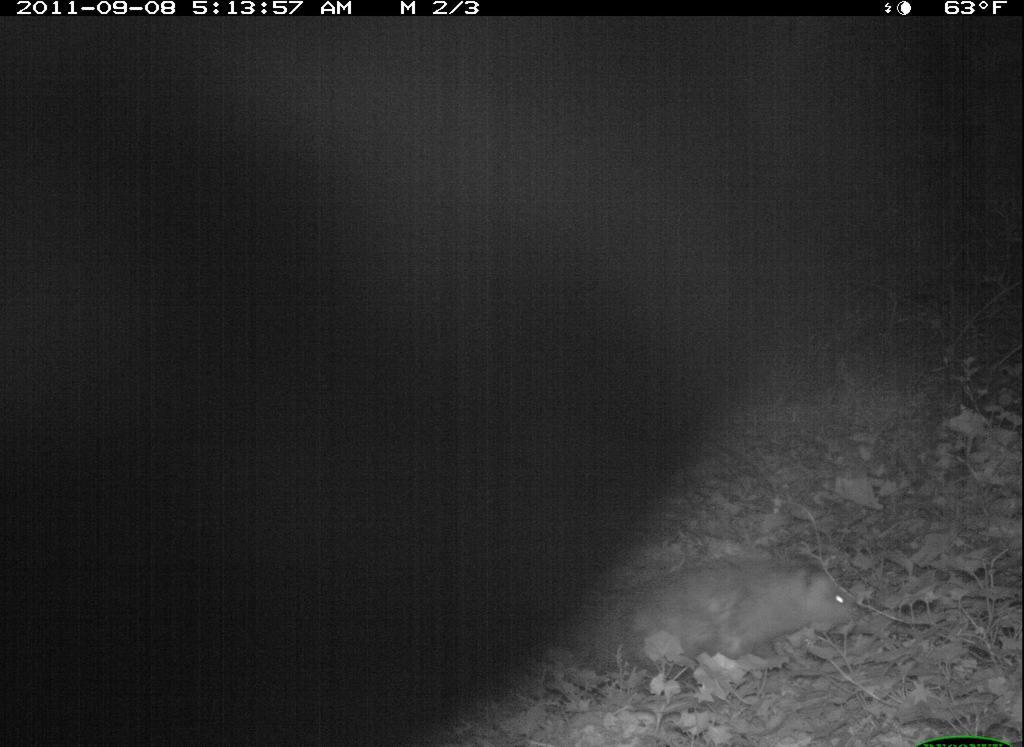opossum: (625, 551, 875, 675)
